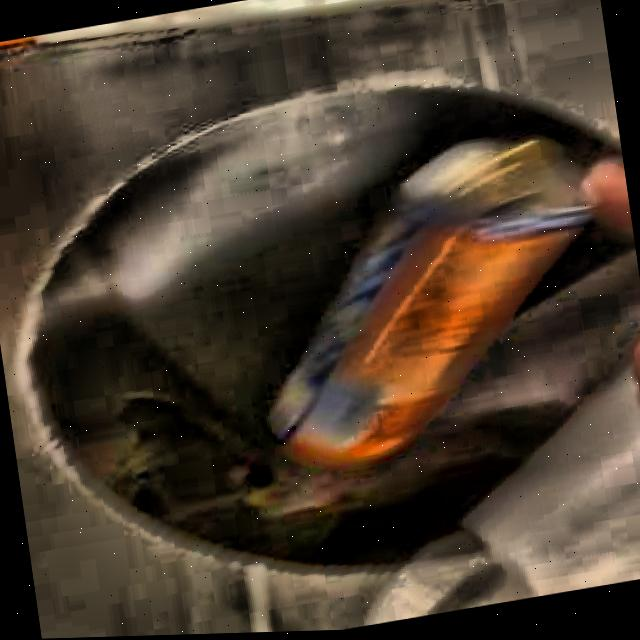metal: (274, 144, 591, 470)
